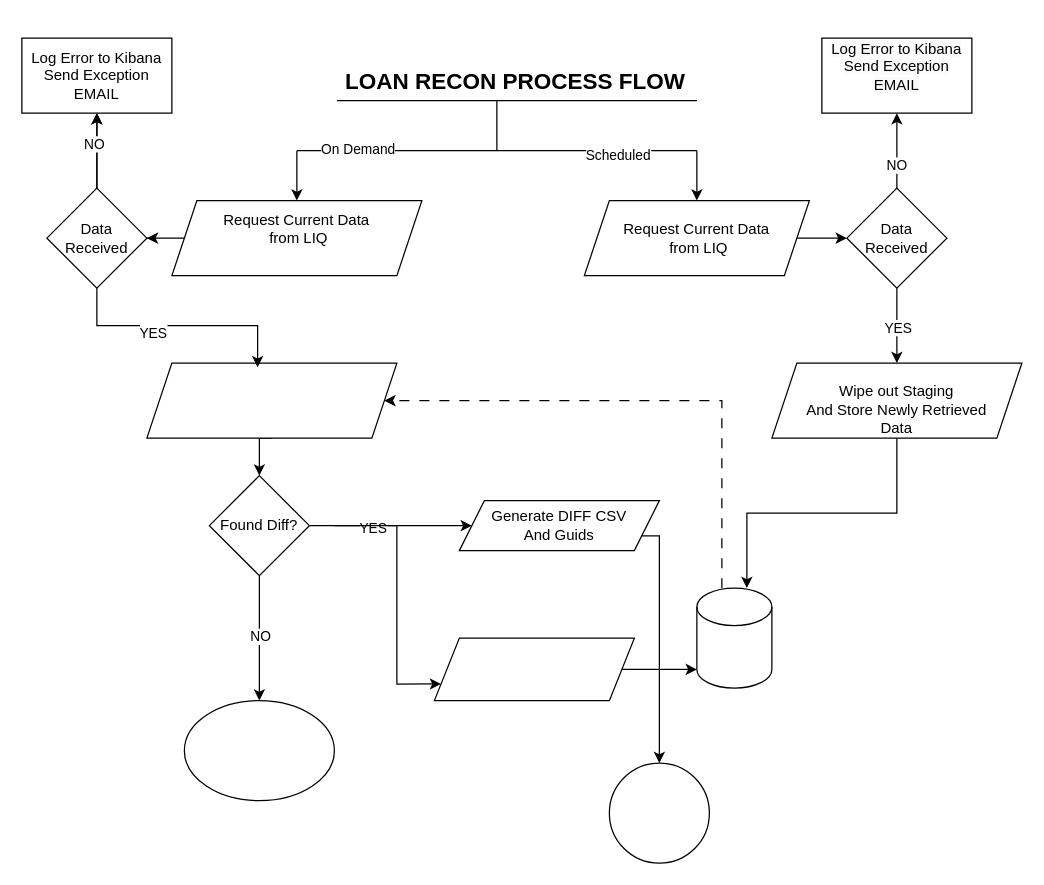
Some shapes in this 1044 by 885 pixel diagram are drawn without their labels. The centre of each missing label's shape, as x and y in pixels:
Compare Current Data With Yesterday Data in Staging: (x=271, y=400)
End Process With EMAIL: (x=258, y=750)
Send CSV To ClearPar: (x=658, y=812)
Store Diff With GUID: (x=533, y=669)
